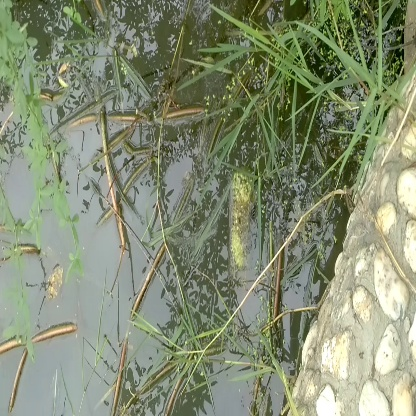grass: (249, 24, 379, 156)
